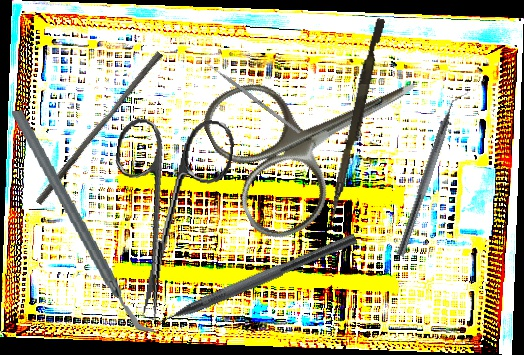Chopper: (9, 98, 158, 346), (138, 217, 358, 337), (395, 84, 471, 262)
Iris Scissors: (194, 16, 449, 249), (94, 107, 237, 328)
Pusher: (35, 46, 164, 211), (328, 16, 386, 222), (200, 57, 301, 135)
